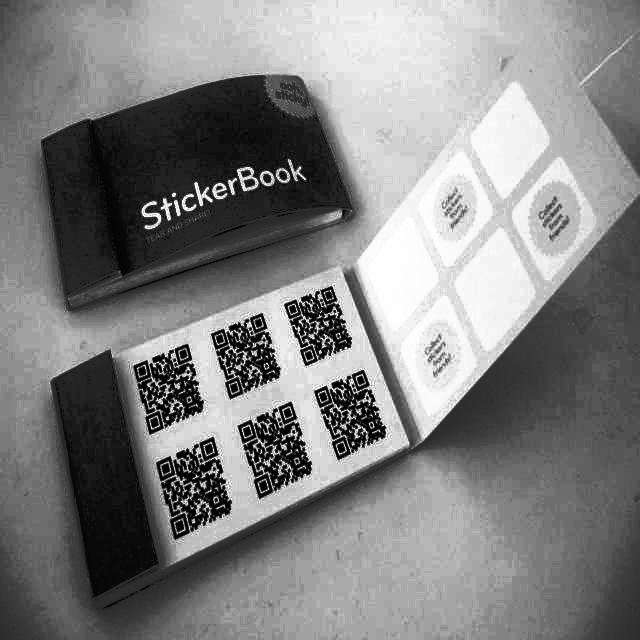qr_code: (157, 438, 231, 539), (238, 402, 312, 498), (134, 343, 204, 434), (315, 372, 386, 460), (212, 313, 280, 399), (285, 287, 352, 365)
